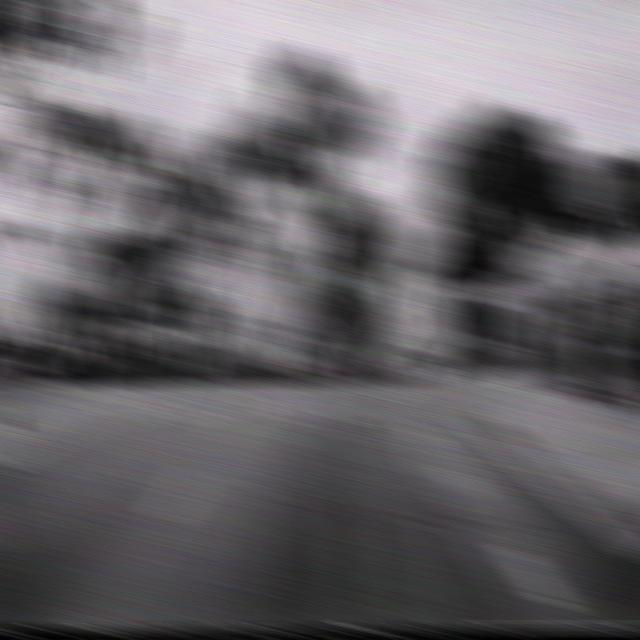stop: (566, 150, 620, 221), (65, 250, 108, 308)
